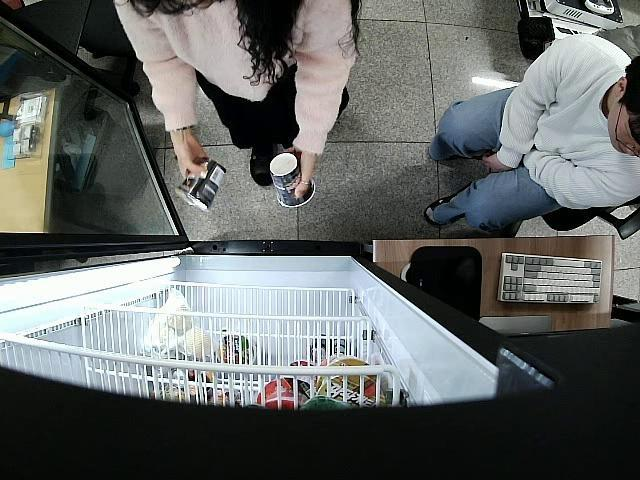08_buldak_S: (176, 158, 226, 212), (269, 153, 316, 208)
